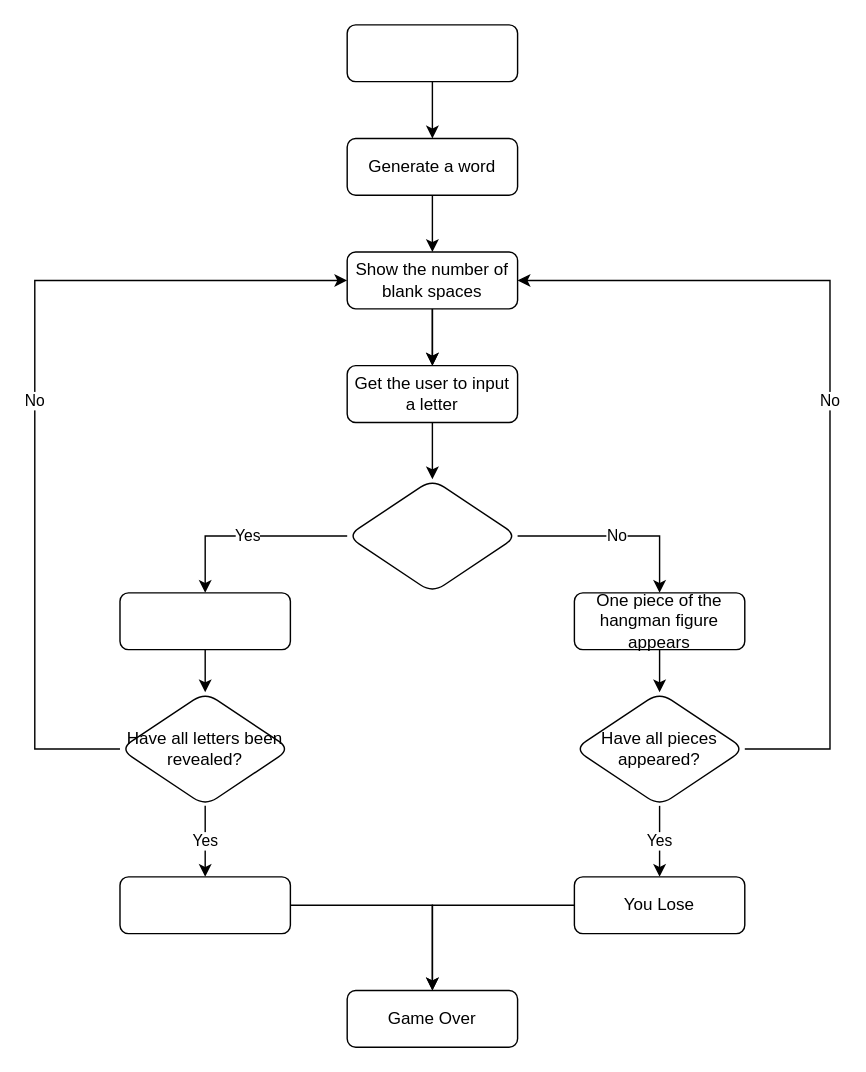
This 866x1072 diagram has some shape labels left out. Here are the shapes that lost their labels. From the top down, the centre of each, then its label:
At (x=432, y=52): "Start".
At (x=432, y=535): "Letter exits in the word?".
At (x=204, y=620): "The position of the letter is revealed".
At (x=204, y=904): "You Win!".
